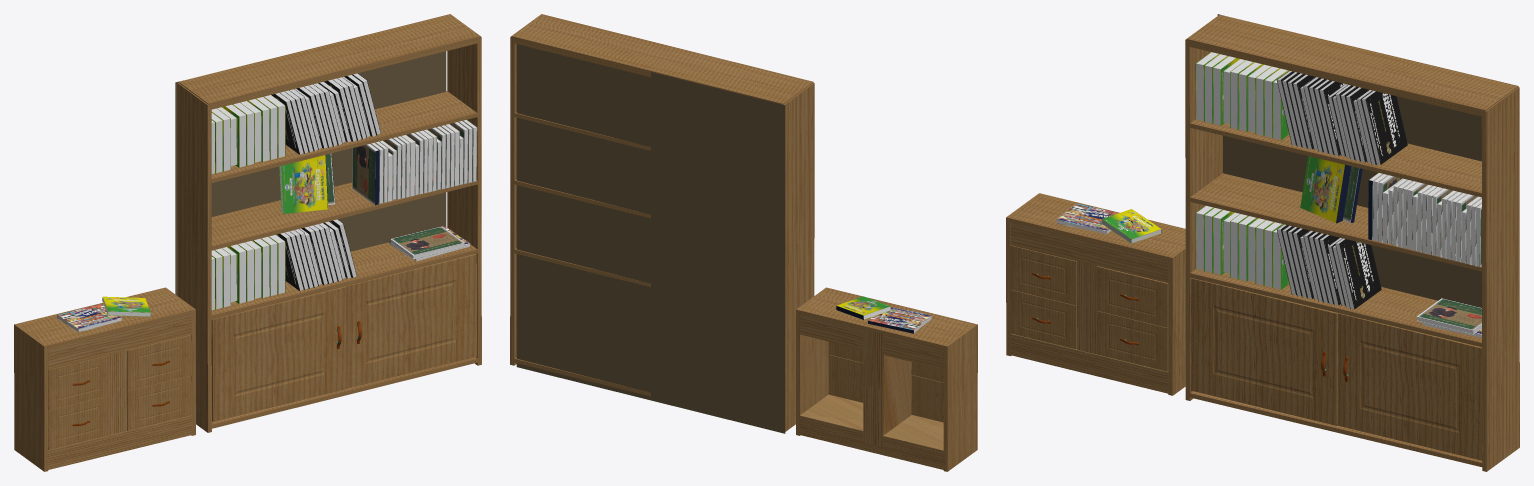
The model's file is librero.obj.
The picture shows the model from 3 angles, left to right: view 1: azimuth 30°, elevation 25°; view 2: azimuth 150°, elevation 25°; view 3: azimuth 330°, elevation 25°; orthographic projection. The views are drawn at different scales.
Visible parts, largest first — view 1: Box025, Box024, Plane001, Box019, Box018, Box017, Box022, Box023, Box027, Box021, Box028, Box029 (+14 smaller); view 2: Plane001, Box019, Box018, Box029, Box027, Box030, Box028, Box031, Box026, Box017, Box033, Box035 (+7 smaller); view 3: Box025, Box024, Box017, Box019, Plane001, Box022, Box023, Box018, Box021, Box028, Box029, Box031 (+25 smaller).
Boxes of the visible parts, x1,y1,x2,y2 form: Box025: (211,286,345,421); Box024: (345,254,476,388); Plane001: (175,51,446,295); Box019: (178,14,480,109); Box018: (177,82,211,432); Box017: (447,36,481,365); Box022: (211,180,477,250); Box023: (211,91,477,182); Box027: (14,324,48,471); Box021: (211,227,477,319); Box028: (16,288,193,349); Box029: (46,415,192,470); Plane001: (516,44,785,433); Box019: (511,14,813,104); Box018: (781,82,814,431); Box029: (800,394,945,470); Box027: (943,324,977,471); Box030: (863,328,911,447); Box028: (799,288,975,349); Box031: (800,315,943,369); Box026: (796,287,828,435); Box017: (510,36,516,365); Box033: (828,354,863,402); Box035: (911,375,943,422); Box025: (1190,278,1337,425); Box024: (1337,313,1482,460); Box017: (1481,87,1519,471); Box019: (1186,14,1518,116); Plane001: (1217,14,1481,307); Box022: (1190,173,1481,271); Box023: (1190,119,1481,197); Box018: (1185,15,1222,400); Box021: (1190,269,1481,347); Box028: (1008,193,1185,261); Box029: (1008,333,1171,393); Box031: (1010,223,1168,282).
Bounding box in the file's own units: 69.69 × 50.28 × 9.65.
Materials: 10 (5 with a texture image).
